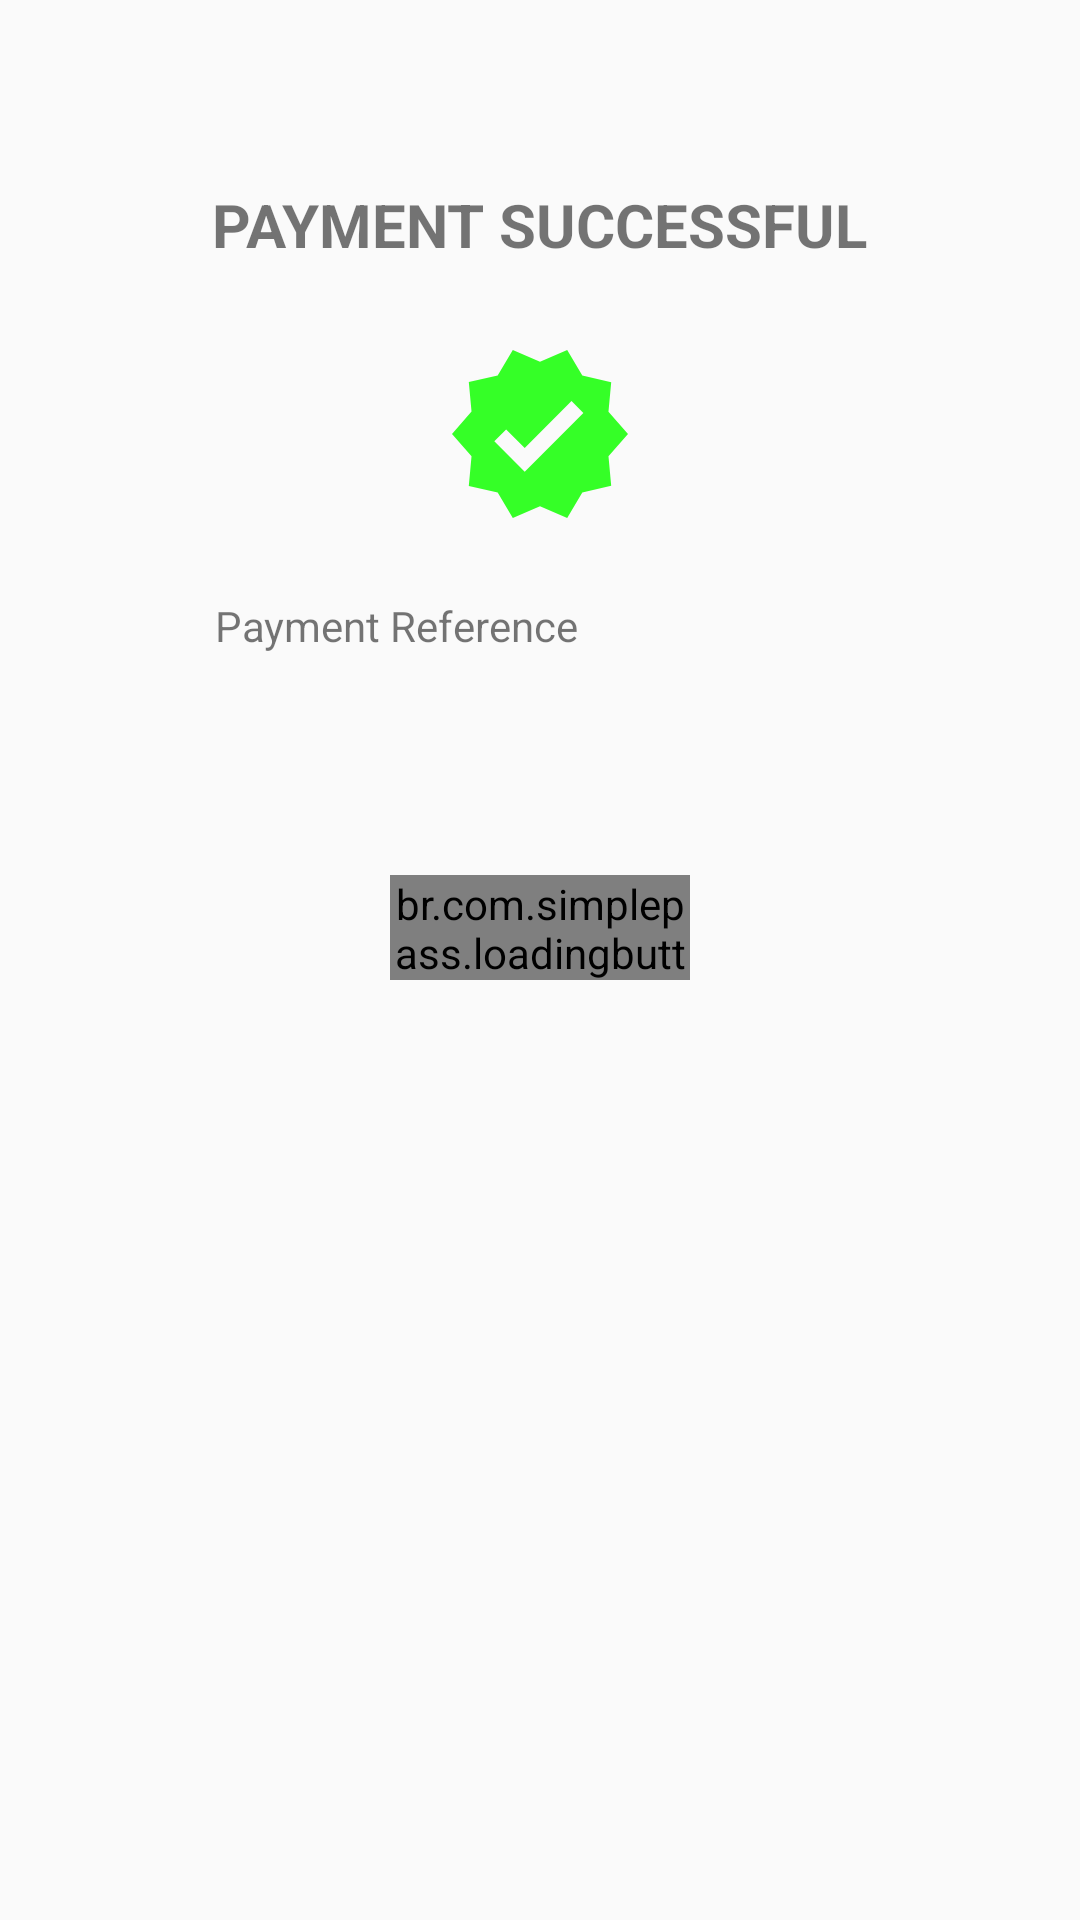

Icons on this 1080px×1920px Android screen, each with the point to tap as (x=x, y=y):
verified: (x=540, y=434)
